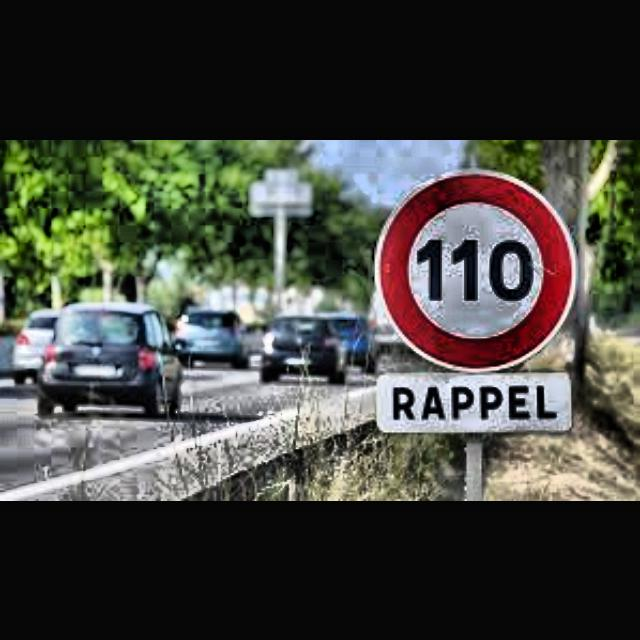speed_110: (376, 167, 578, 375)
